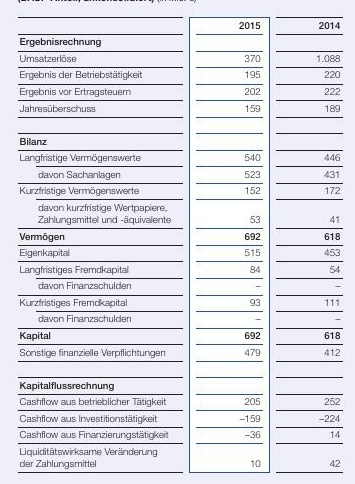table: (0, 0, 355, 484)
